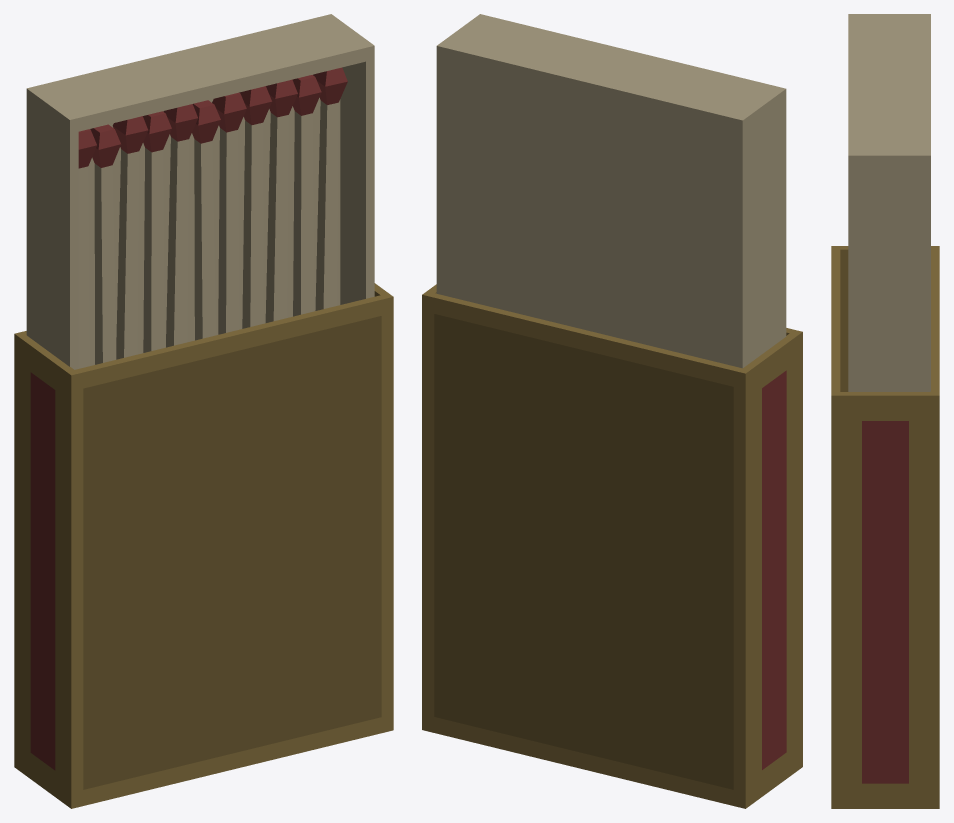
Rendered from Matchbox.glb.
3 renders of one model, left to right at view 1: azimuth 30°, elevation 25°; view 2: azimuth 150°, elevation 25°; view 3: azimuth 270°, elevation 25°, orthographic. The views are drawn at different scales.
Parts seen in each view (by area): view 1: Matchbox; view 2: Matchbox; view 3: Matchbox.
Boxes of the visible parts, x1=… form: Matchbox: x1=14, y1=14, x2=393, y2=808; Matchbox: x1=422, y1=14, x2=802, y2=808; Matchbox: x1=831, y1=14, x2=939, y2=808.
Bounding box in the file's own units: 0.5397 × 1.09 × 0.1653.
